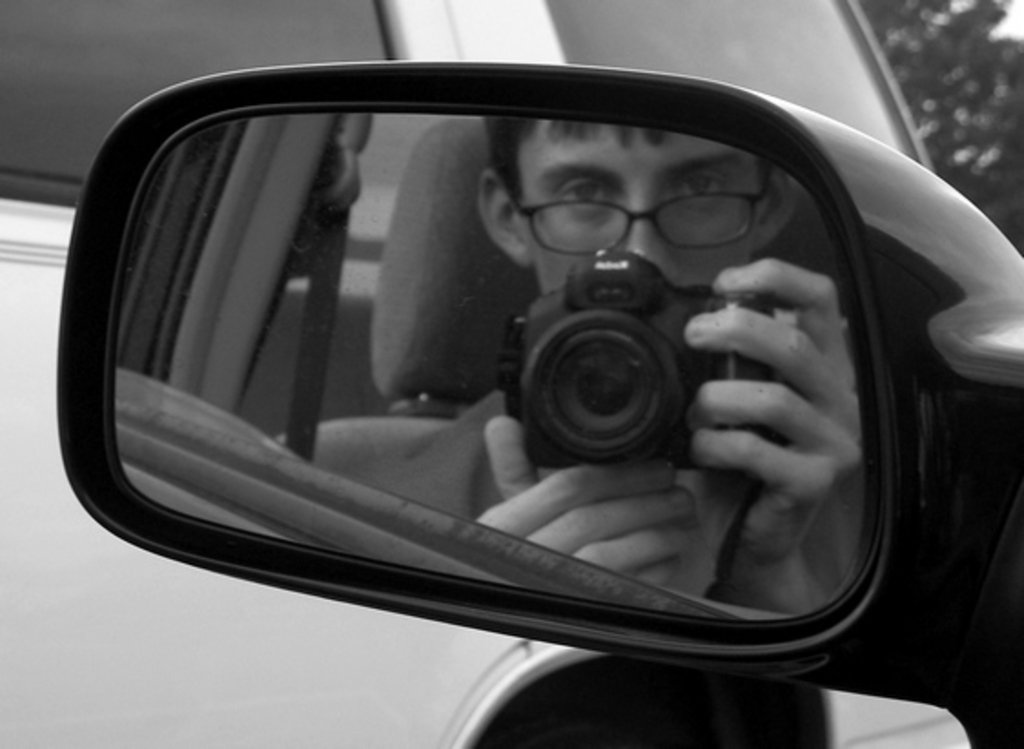Car: (0, 0, 1022, 747)
